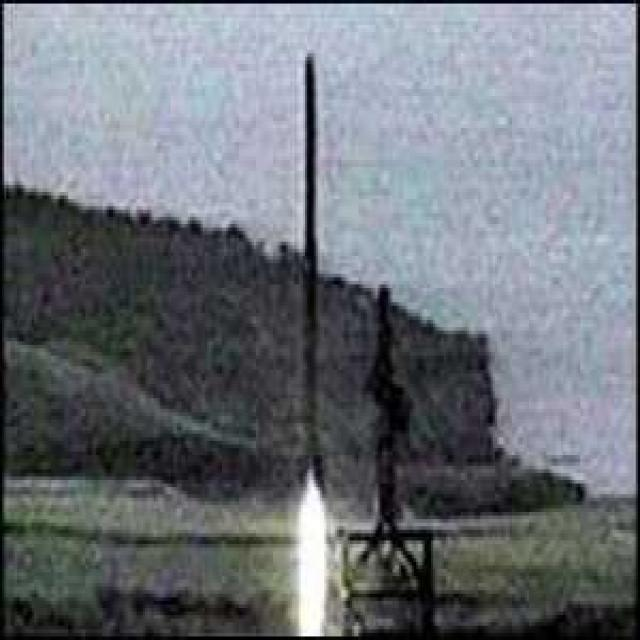missile: (293, 54, 329, 486)
